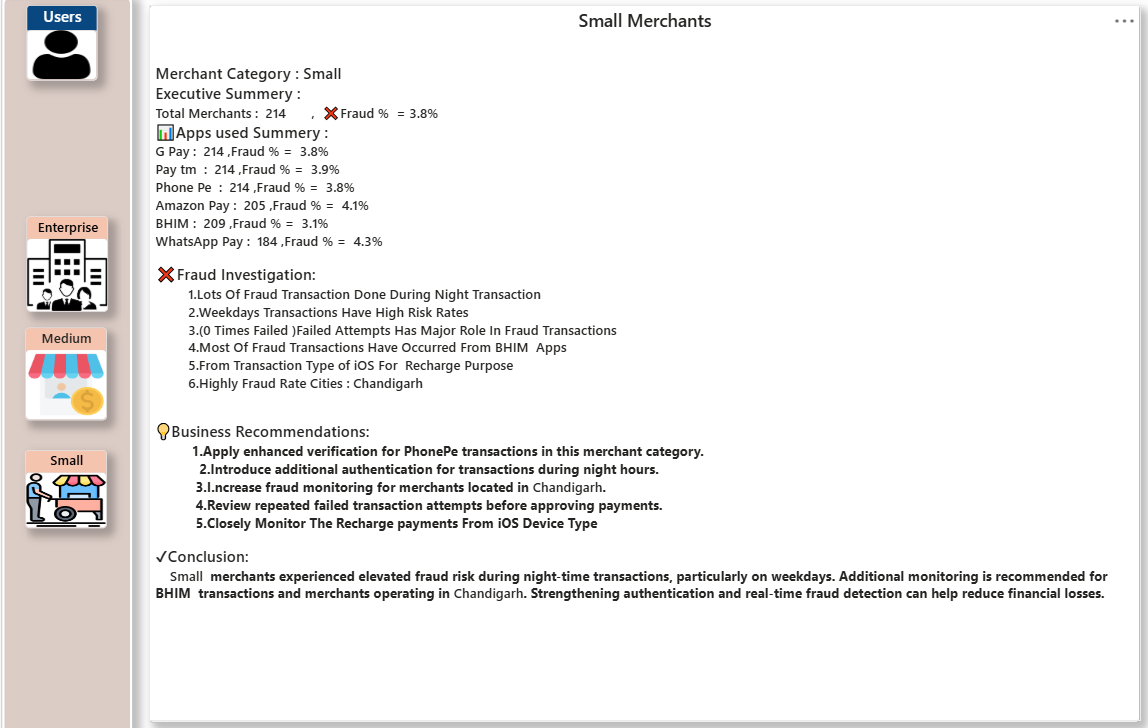

The page's visual inventory and layout, read from the dashboard file:
{"tool":"powerbi","page":{"name":"Merchnats","canvas":[1400,900],"ordinal":5},"visuals":[{"type":"shape","box":[9.5,0,158.2,899.9],"z":1000},{"type":"image","title":"Users","box":[39.8,11.4,85.2,90.9],"z":2000},{"type":"image","title":"Small","box":[37.9,549.3,98.5,94.7],"z":3000},{"type":"image","title":"Medium","box":[37.9,401.5,98.5,111.7],"z":4000},{"type":"image","title":"Enterprise","box":[39.8,267,98.5,115.5],"z":5000},{"type":"textbox","title":"Small Merchants","box":[187.5,11.4,1195.1,865.5],"z":7000}]}

Visuals, with their boxes on the page's 1400x900 design canvas (x1, y1, x2, y2). These are canvas units, not pixel positions in the 1148x728 screenshot, which may show the page scaled, cropped or inside an application window:
shape: locate(10, 0, 168, 900)
"Users" image: locate(40, 11, 125, 102)
"Small" image: locate(38, 549, 136, 644)
"Medium" image: locate(38, 402, 136, 513)
"Enterprise" image: locate(40, 267, 138, 382)
"Small Merchants" textbox: locate(188, 11, 1383, 877)
